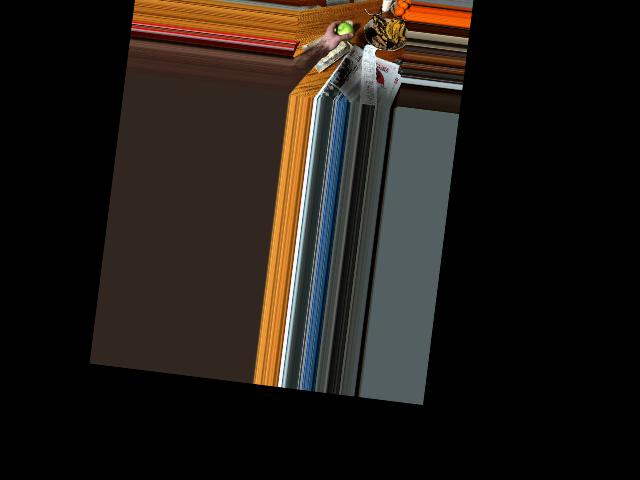apple: (329, 20, 355, 49)
